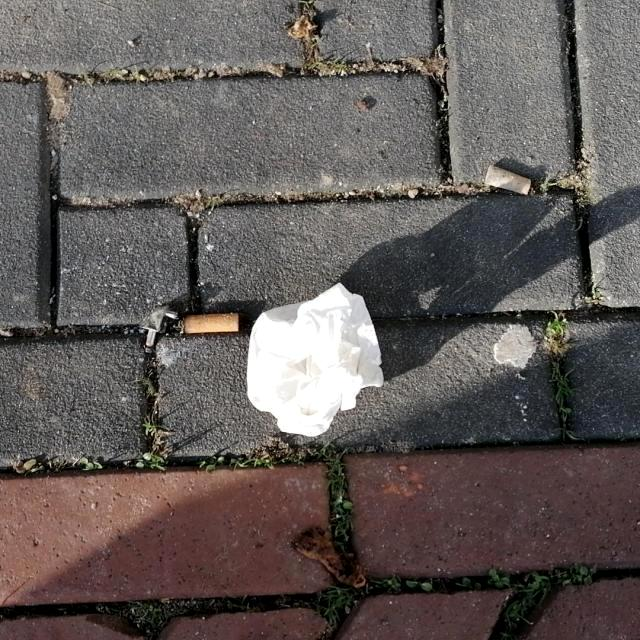Paper: (248, 280, 386, 438)
